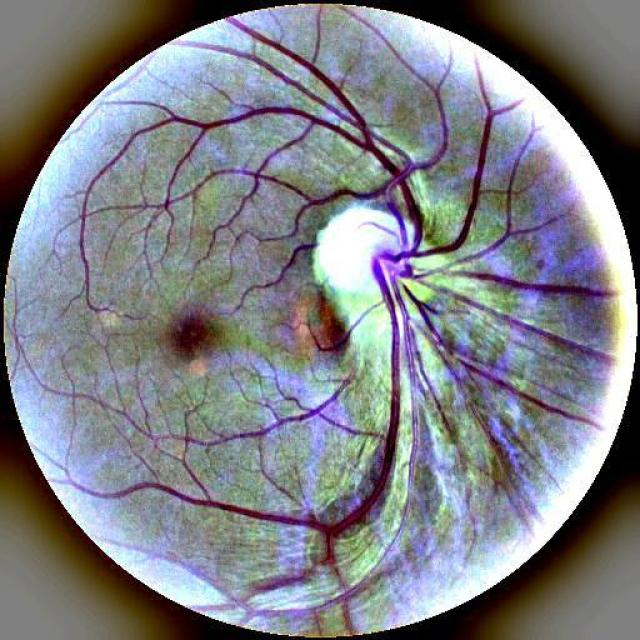Macula: (153, 294, 228, 376)
Nerves: (95, 257, 411, 585), (74, 22, 431, 278)
Optic Disk: (312, 201, 455, 359)
